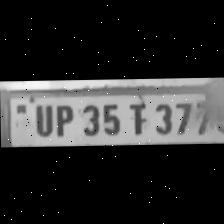3: (76, 101, 100, 136), (149, 100, 173, 134)
5: (97, 99, 122, 135)
7: (190, 98, 212, 135), (171, 100, 193, 134)
P: (50, 102, 76, 136)
T: (124, 98, 150, 134)
U: (28, 101, 52, 135)
